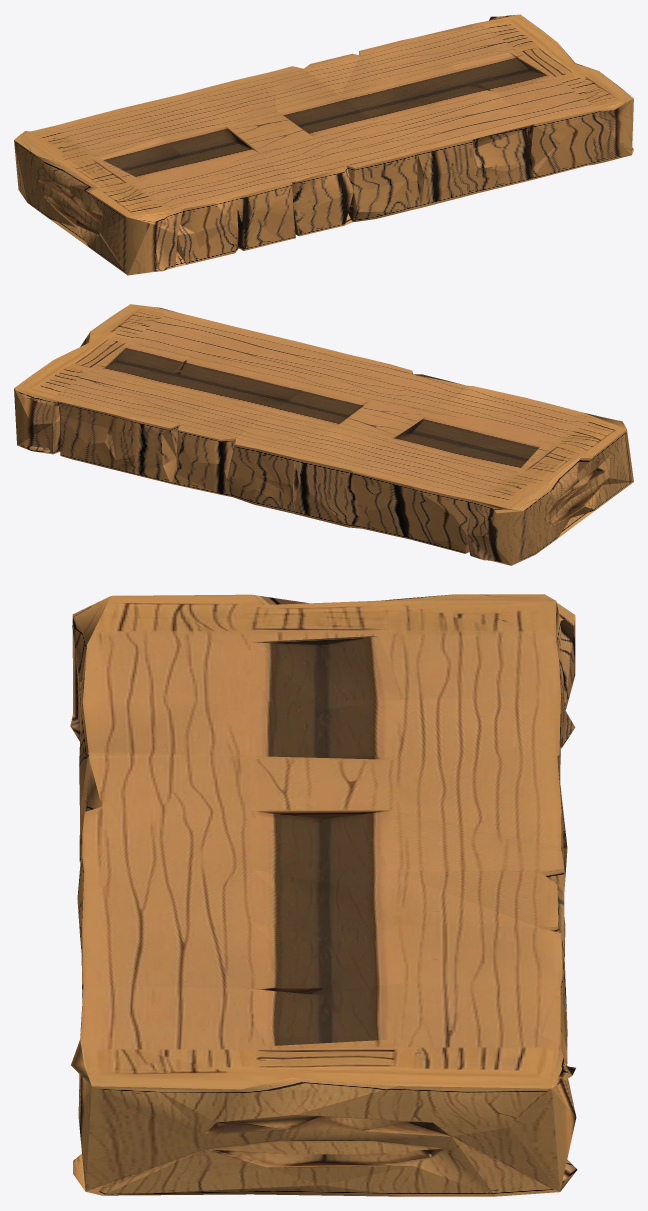
File: deck-plank.glb
3 views of the same model, one above another, from view 1: azimuth 30°, elevation 25°; view 2: azimuth 150°, elevation 25°; view 3: azimuth 270°, elevation 25° (orthographic). The views are drawn at different scales.
Visible parts, largest first — view 1: Mesh_0; view 2: Mesh_0; view 3: Mesh_0.
Part boxes in pixels (box(x1,y1,x2,y2)): Mesh_0: box(14, 14, 633, 275); Mesh_0: box(14, 304, 633, 565); Mesh_0: box(70, 594, 577, 1196).
Bounding box in the file's own units: 1.9 × 0.2031 × 0.8195.
1 material, 1 textured.
